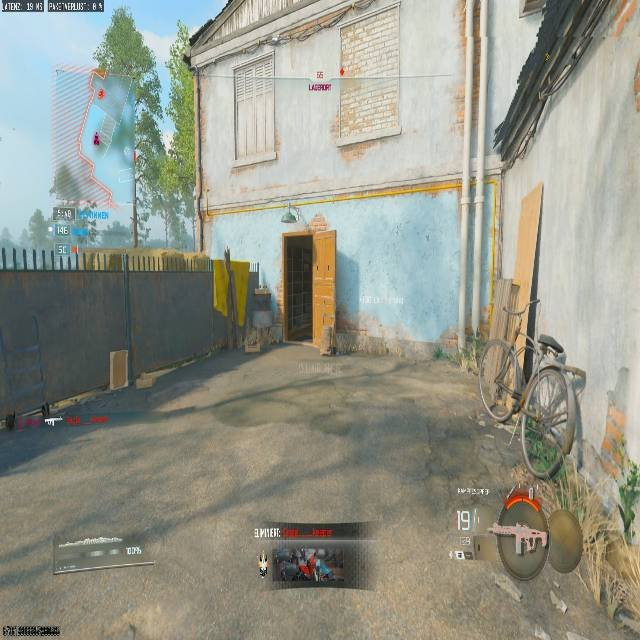player: (85, 223, 99, 246)
